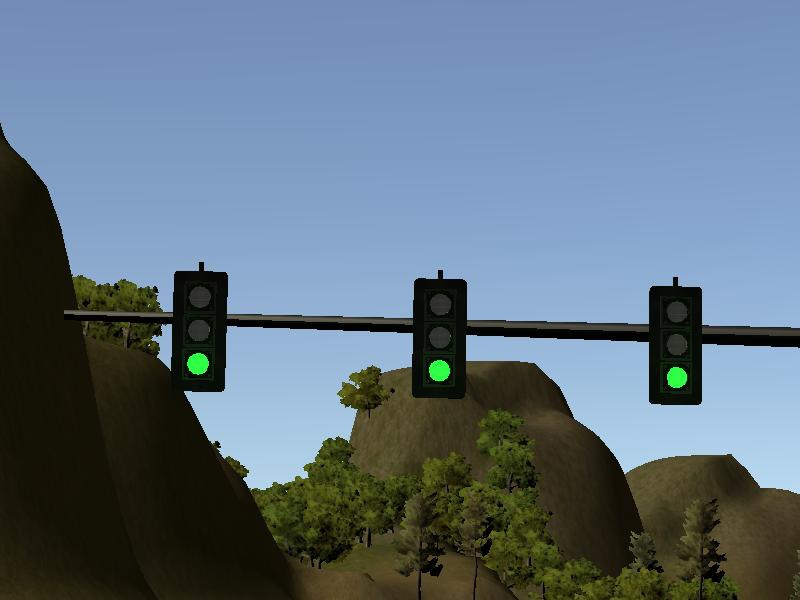Green: (649, 284, 703, 406), (414, 278, 466, 398), (174, 271, 225, 393)
